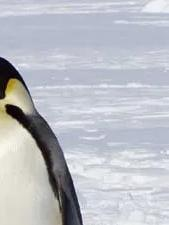Emperor Penguin: (0, 32, 104, 225)
